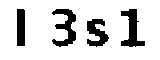1: (115, 5, 148, 50)
3: (46, 7, 79, 50)
l: (11, 5, 32, 47)
s: (85, 16, 109, 49)
